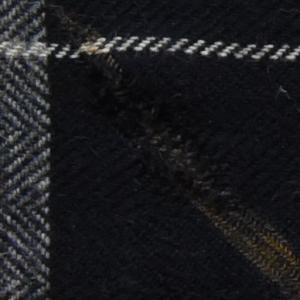Stain: (48, 4, 300, 300)
